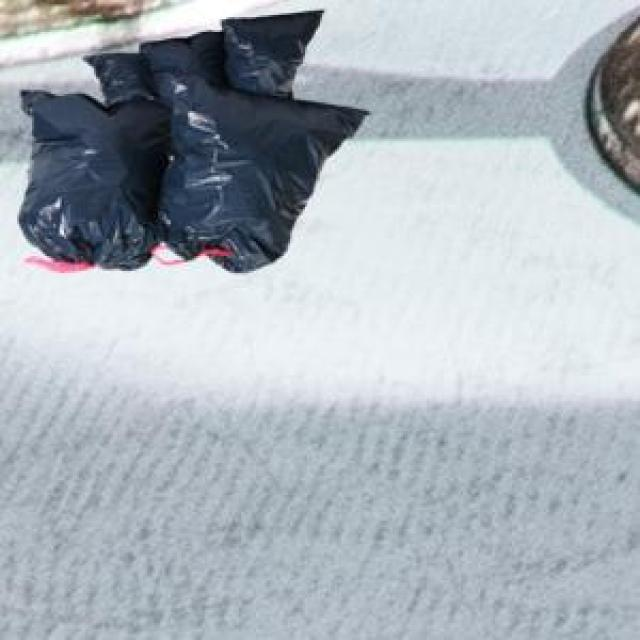miscellaneous trash: (15, 66, 365, 269), (79, 8, 320, 107)
